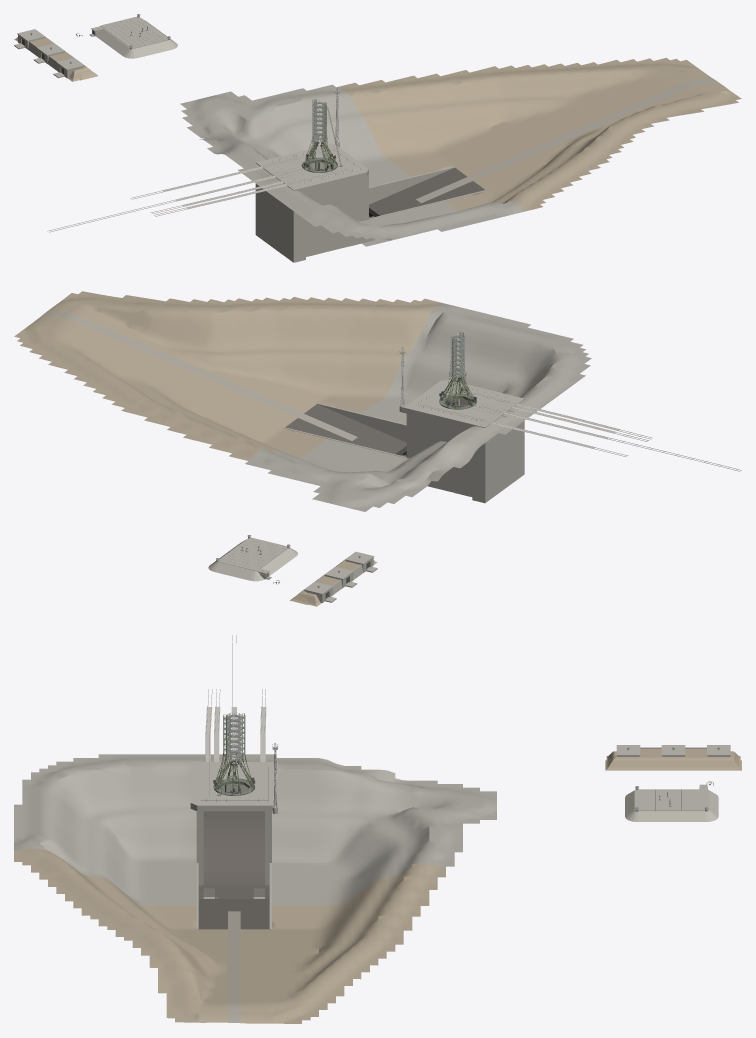
Rendered from soyuz.lod2.glb.
The picture shows the model from 3 angles, top to bottom: view 1: azimuth 30°, elevation 25°; view 2: azimuth 150°, elevation 25°; view 3: azimuth 270°, elevation 25°; orthographic projection. The views are drawn at different scales.
Parts seen in each view (by area): view 1: FlamePit_Earth, FlamePit_Lining, Platform_ConcretePylons, Platform_Concrete, FlamePit_Road, FlamePit_Scorch, CommandBunker_ConcreteFacing, Tracks_Band, CommandBunker_ConcreteMound, FlamePit_ScorchSump, StorageBunker_ConcreteRoofs, StorageBunker_Earth (+1 smaller); view 2: FlamePit_Earth, FlamePit_Lining, Platform_ConcretePylons, Platform_Concrete, FlamePit_Road, FlamePit_Scorch, CommandBunker_ConcreteFacing, Tracks_Band, CommandBunker_ConcreteMound, FlamePit_ScorchSump, StorageBunker_ConcreteRoofs, StorageBunker_Earth (+1 smaller); view 3: FlamePit_Lining, FlamePit_Earth, FlameDeflector_Scorch, Platform_Concrete, StorageBunker_Earth, Platform_ConcretePylons, FlamePit_Scorch, CommandBunker_ConcreteFacing, CommandBunker_ConcreteMound, FlamePit_Road, Tracks_Band, FlamePit_ScorchSump (+1 smaller).
Part boxes in pixels (x1,y1,x2,y2): FlamePit_Earth: (336, 57, 741, 211); FlamePit_Lining: (180, 84, 523, 240); Platform_ConcretePylons: (255, 159, 486, 262); Platform_Concrete: (268, 142, 368, 191); FlamePit_Road: (416, 78, 717, 203); FlamePit_Scorch: (369, 167, 484, 218); CommandBunker_ConcreteFacing: (100, 17, 168, 48); Tracks_Band: (162, 166, 286, 209); CommandBunker_ConcreteMound: (96, 16, 177, 58); FlamePit_ScorchSump: (369, 190, 423, 216); StorageBunker_ConcreteRoofs: (17, 29, 84, 70); StorageBunker_Earth: (14, 37, 97, 81); FlamePit_Earth: (14, 291, 444, 460); FlamePit_Lining: (245, 303, 591, 511); Platform_ConcretePylons: (284, 395, 524, 503); Platform_Concrete: (399, 380, 511, 428); FlamePit_Road: (42, 310, 357, 440); FlamePit_Scorch: (285, 404, 406, 456); CommandBunker_ConcreteFacing: (218, 537, 287, 571); Tracks_Band: (491, 403, 619, 448); CommandBunker_ConcreteMound: (208, 538, 297, 581); FlamePit_ScorchSump: (350, 427, 406, 455); StorageBunker_ConcreteRoofs: (304, 551, 374, 594); StorageBunker_Earth: (290, 560, 377, 606); FlamePit_Lining: (14, 754, 496, 905); FlamePit_Earth: (14, 848, 445, 1023); FlameDeflector_Scorch: (198, 811, 269, 888); Platform_Concrete: (190, 768, 277, 813); StorageBunker_Earth: (605, 748, 741, 770); Platform_ConcretePylons: (190, 762, 277, 929); FlamePit_Scorch: (198, 888, 269, 929); CommandBunker_ConcreteFacing: (635, 789, 707, 810); CommandBunker_ConcreteMound: (625, 790, 718, 821); FlamePit_Road: (228, 911, 240, 1023); Tracks_Band: (205, 706, 266, 761); FlamePit_ScorchSump: (198, 899, 269, 911).
Bounding box in the file's own units: 418 × 85.27 × 344.
